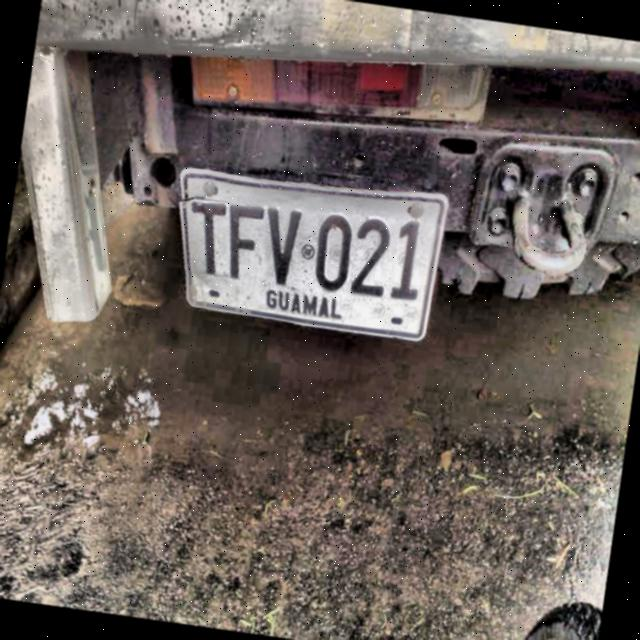plate: (180, 169, 449, 343)
